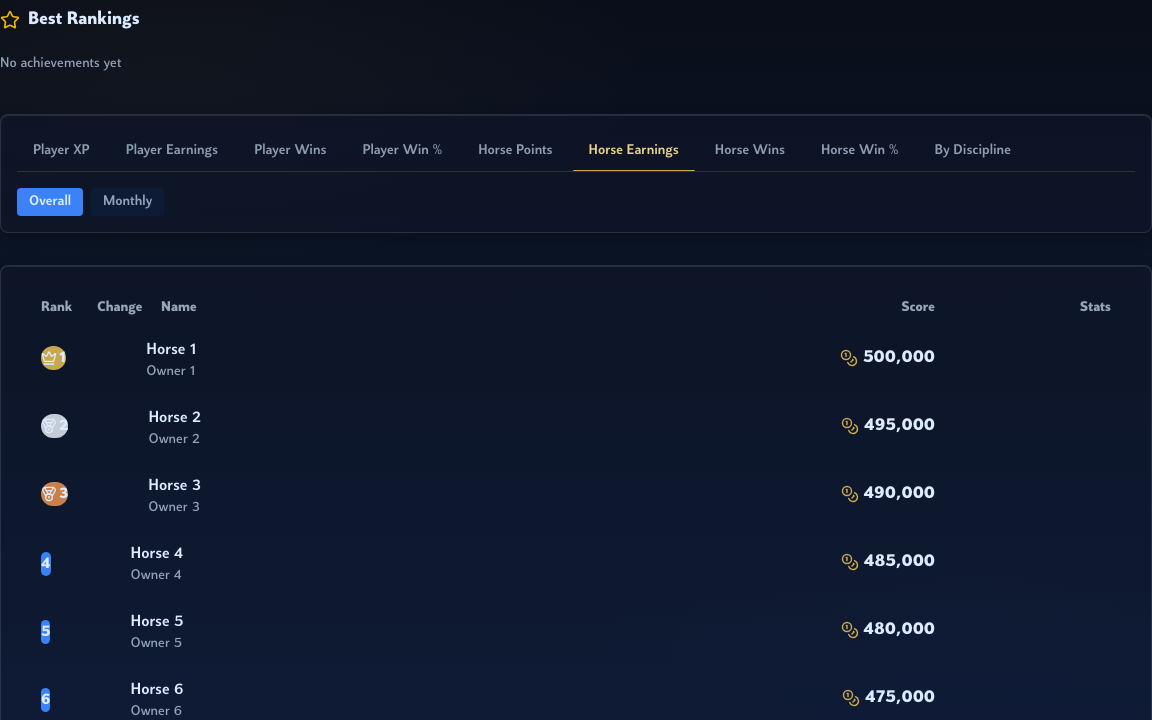
Test: LeaderboardsPage — horse detail modal (Equoria-ffmha, Equoria-b9yi1) › renders an unknown sex as "—", never a fabricated "Stallion"
(page scrolled)
Click the row with test id "leaderboard-entry" showing "1 Horse 1 Owner 1 500,000".
click(172, 350)  # box [41,342,935,379]
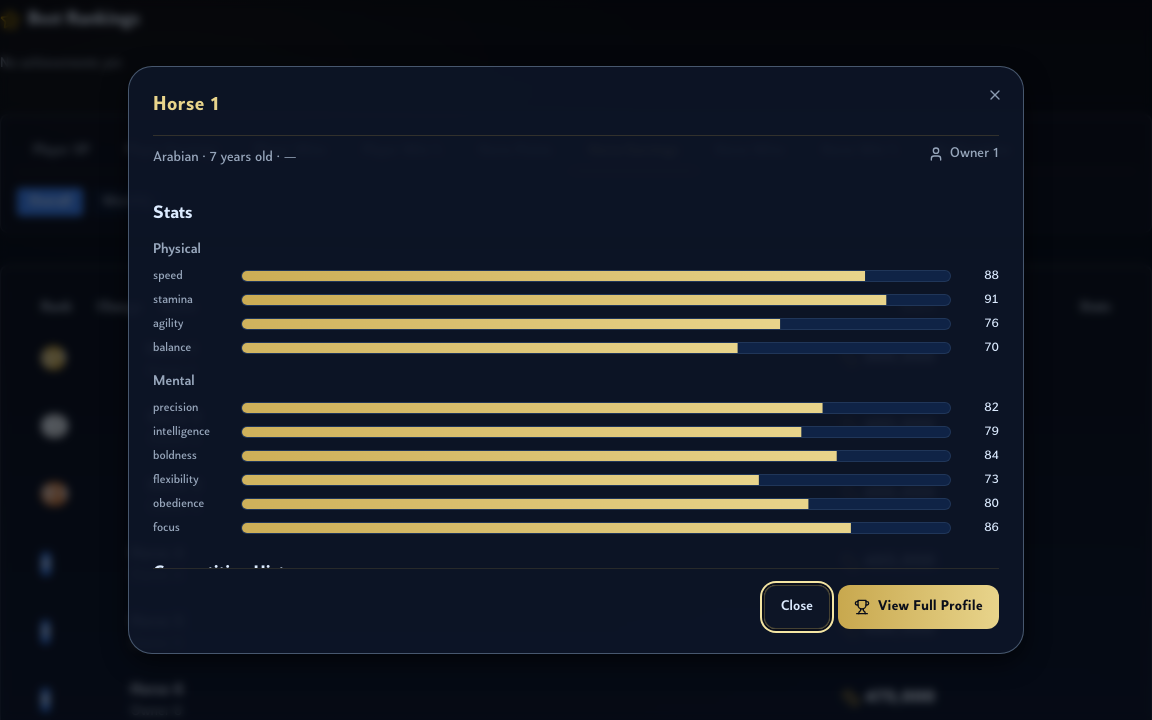
Expected: the text "Arabian · 7 years old · —" does not show "Stallion", [153,150,296,165]
Expected: the text "Arabian · 7 years old · —" is shown, [153,150,296,165]
